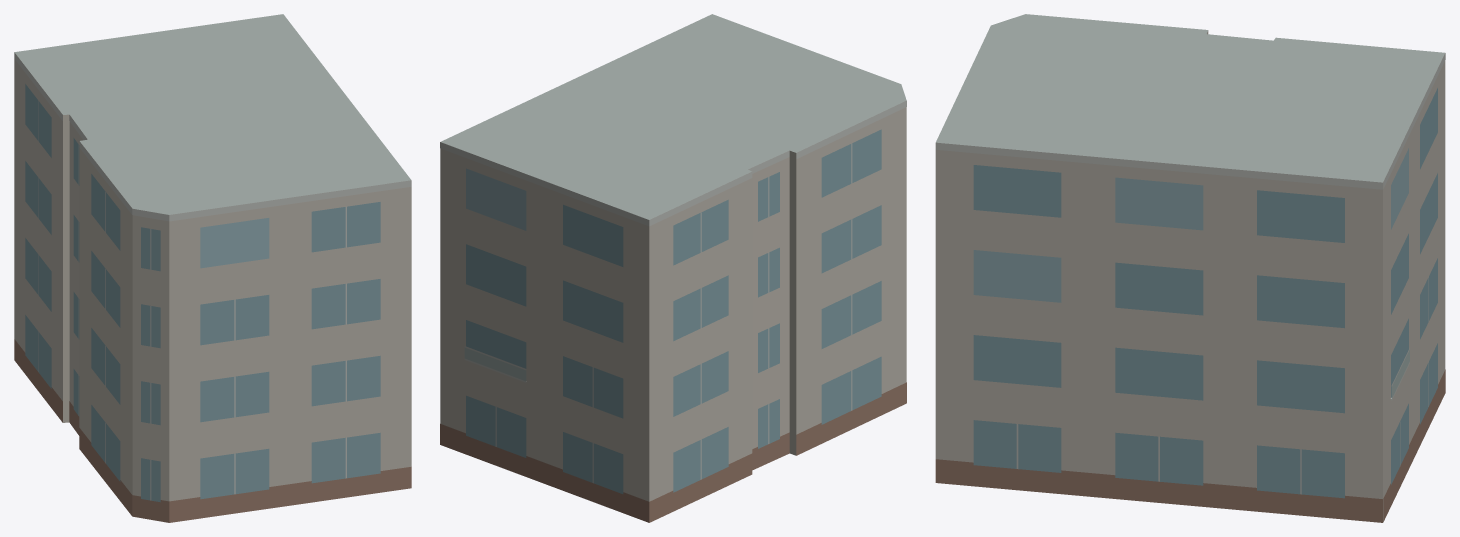
File: survey-upis-32894234.glb
3 views of the same model, side by side, from view 1: azimuth 30°, elevation 25°; view 2: azimuth 150°, elevation 25°; view 3: azimuth 270°, elevation 25° (orthographic). The views are drawn at different scales.
Visible parts, largest first — view 1: survey-upis-32894234.tmp; view 2: survey-upis-32894234.tmp; view 3: survey-upis-32894234.tmp.
Part boxes in pixels (x1,y1,x2,y2): survey-upis-32894234.tmp: (14, 14, 411, 522); survey-upis-32894234.tmp: (440, 14, 906, 522); survey-upis-32894234.tmp: (935, 14, 1445, 522).
Size of the model in its own units: 12.34 by 11.6 by 15.76.
